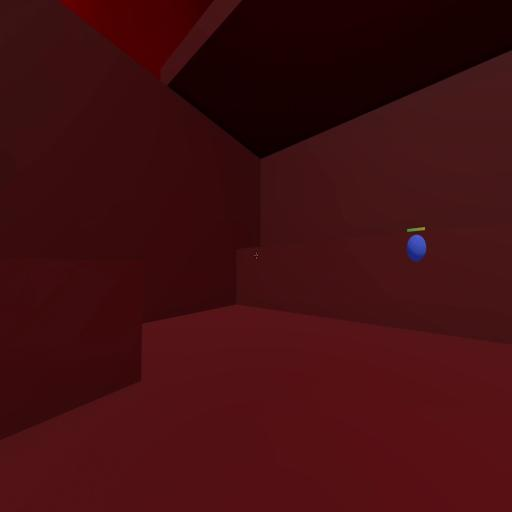Crosshair: (254, 252, 258, 260)
Target: (406, 234, 427, 265)
